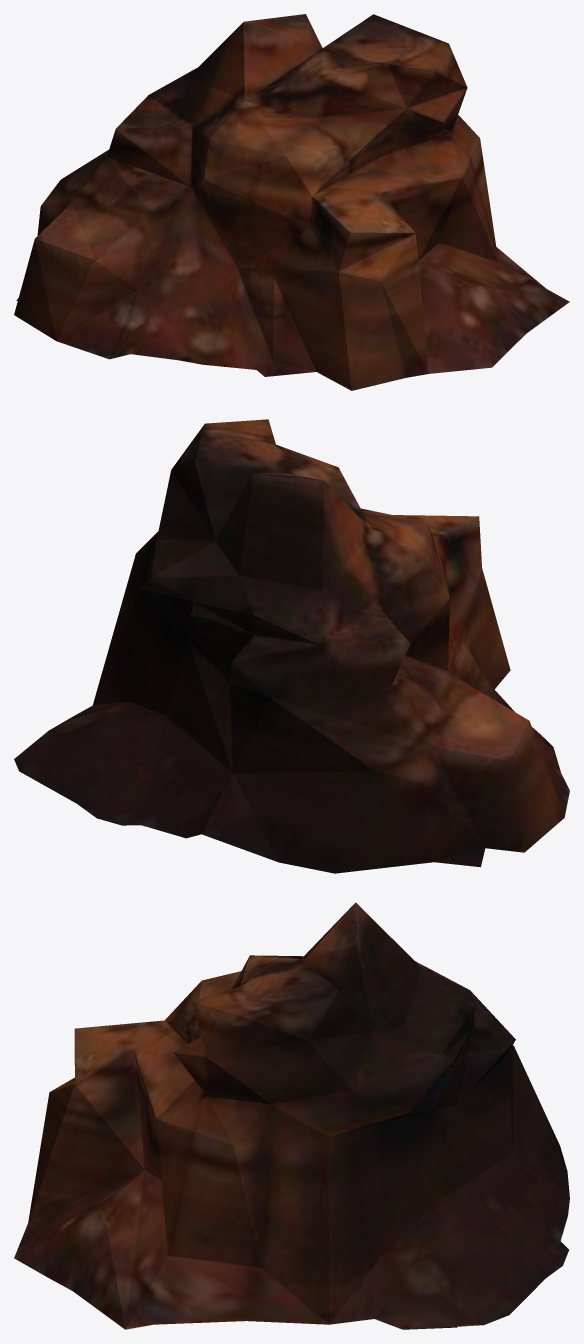
The model's file is red_sandstone_lod1.glb.
3 views of the same model, one above another, from view 1: azimuth 30°, elevation 25°; view 2: azimuth 150°, elevation 25°; view 3: azimuth 270°, elevation 25° (orthographic). The views are drawn at different scales.
Visible parts, largest first — view 1: red_sandstone_lod1; view 2: red_sandstone_lod1; view 3: red_sandstone_lod1.
Boxes of the visible parts, x1,y1,x2,y2 form: red_sandstone_lod1: (14,14,569,390); red_sandstone_lod1: (14,419,569,873); red_sandstone_lod1: (14,902,569,1329).
Bounding box in the file's own units: 0.9878 × 0.586 × 0.963.
Materials: 1 (1 with a texture image).
